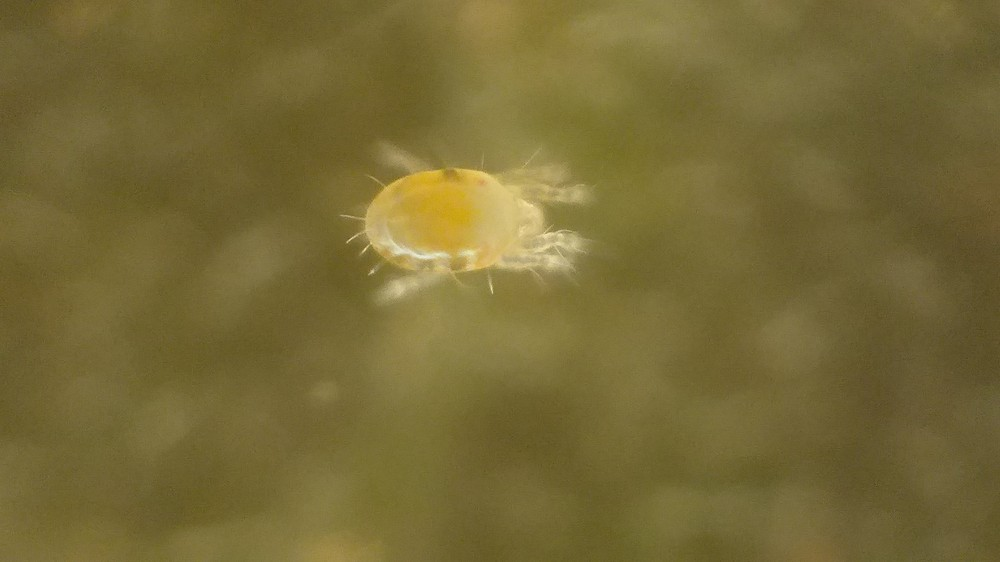Aracnido Rojo: (320, 110, 636, 339)
